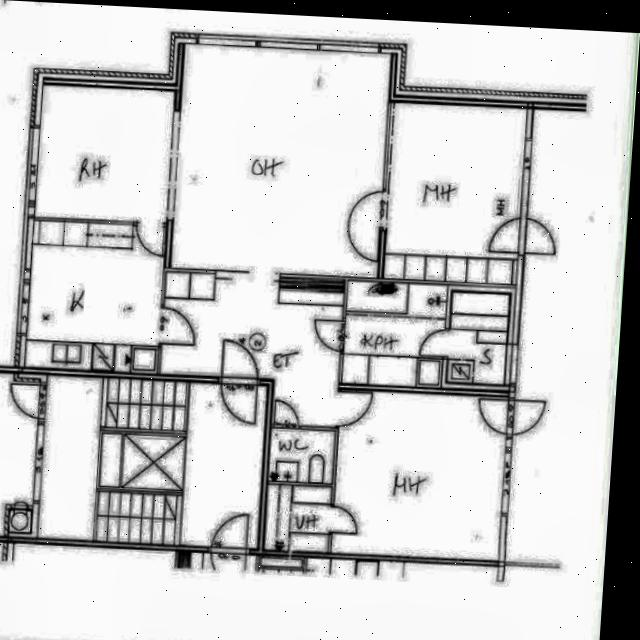room: (332, 390, 508, 561), (384, 100, 527, 286), (26, 221, 165, 374), (35, 84, 175, 227), (342, 280, 448, 389), (0, 374, 40, 537), (447, 290, 510, 386), (263, 483, 332, 553), (268, 428, 335, 484)
